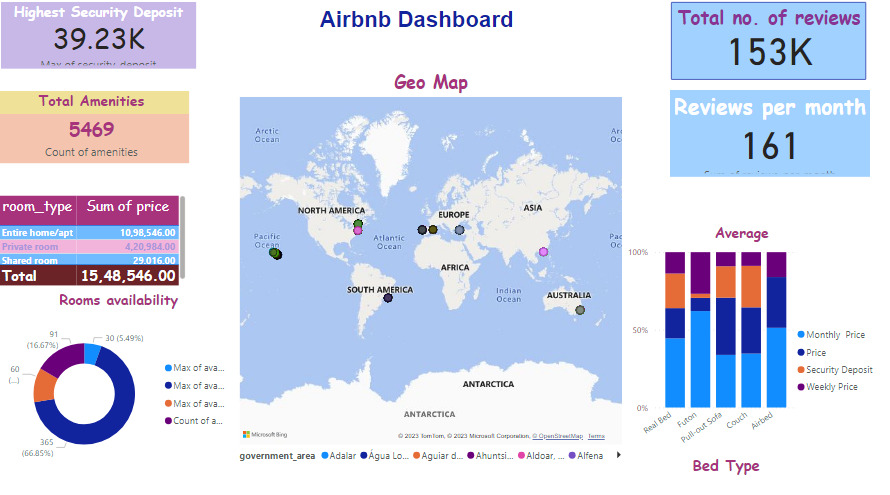

What the dashboard file says about the page in this screenshot:
{"tool":"powerbi","page":{"name":"Page 1","canvas":[1280,720],"ordinal":0},"visuals":[{"type":"hundredPercentStackedColumnChart","title":"Average","fields":{"Category":["airbnb airbnb.bed_type"],"Y":["Sum(airbnb airbnb.monthly_price)","Sum(airbnb airbnb.price)","Sum(airbnb airbnb.security_deposit)","Sum(airbnb airbnb.weekly_price)"]},"box":[874.5,331.9,405.5,367.7],"z":0},{"type":"card","title":"Total no. of reviews","fields":{"Values":["Sum(airbnb airbnb.number_of_reviews)"]},"box":[974.2,14.2,280.6,111.9],"z":1},{"type":"textbox","box":[10,485.5,280,150],"z":2},{"type":"textbox","box":[397.2,15.8,422.5,55.2],"z":4},{"type":"map","title":"Geo Map","fields":{"X":["airbnb airbnb.longitude"],"Y":["airbnb airbnb.latitude"],"Series":["airbnb airbnb.government_area"]},"box":[348.4,110.3,561.2,575.4],"z":5},{"type":"card","title":"Reviews per month","fields":{"Values":["Sum(airbnb airbnb.reviews_per_month)"]},"box":[973.9,141.1,288.2,125.2],"z":6},{"type":"card","title":"Highest Security Deposit","fields":{"Values":["Max(airbnb airbnb.security_deposit)"]},"box":[9.5,14.2,280.6,96.2],"z":7},{"type":"donutChart","title":"Rooms availability","fields":{"Y":["Max(airbnb airbnb.availability_30)","Max(airbnb airbnb.availability_365)","Max(airbnb airbnb.availability_60)","Count(airbnb airbnb.availability_90)"]},"box":[9.5,428.8,338.9,271.1],"z":8},{"type":"tableEx","fields":{"Values":["airbnb airbnb.room_type","Sum(airbnb airbnb.price)"]},"box":[0,288.5,280.6,140.3],"z":9},{"type":"card","title":"Total Amenities","fields":{"Values":["Count(airbnb airbnb.amenities)"]},"box":[0,141.9,280.6,104],"z":10}]}

Visuals, with their boxes in screenshot pixels (x1, y1, x2, y2), scaled from the page's 1280x720 canvas onto the 890x495 screenshot:
"Average" hundredPercentStackedColumnChart: bbox=[608, 228, 889, 481]
"Total no. of reviews" card: bbox=[677, 10, 872, 87]
textbox: bbox=[7, 334, 202, 437]
textbox: bbox=[276, 11, 570, 49]
"Geo Map" map: bbox=[242, 76, 632, 471]
"Reviews per month" card: bbox=[677, 97, 878, 183]
"Highest Security Deposit" card: bbox=[7, 10, 202, 76]
"Rooms availability" donutChart: bbox=[7, 295, 242, 481]
tableEx - airbnb airbnb.room_type x Sum(airbnb airbnb.price): bbox=[0, 198, 195, 295]
"Total Amenities" card: bbox=[0, 98, 195, 169]
